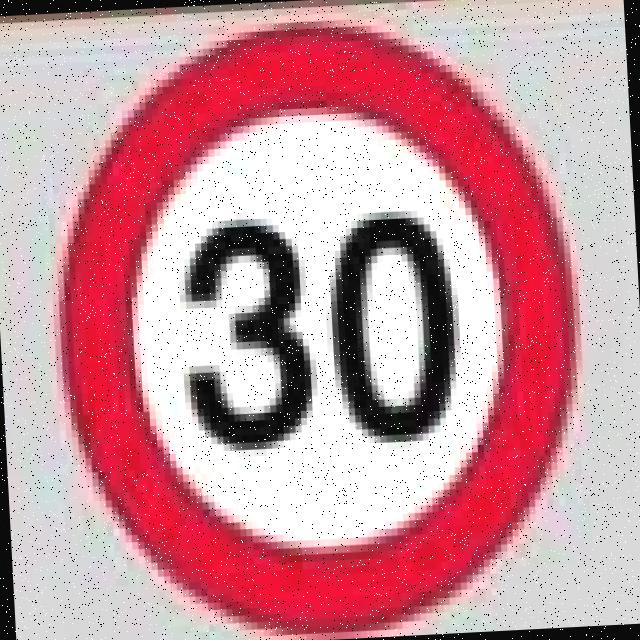Ograniczenie predkosci do 30: (45, 1, 589, 632)
